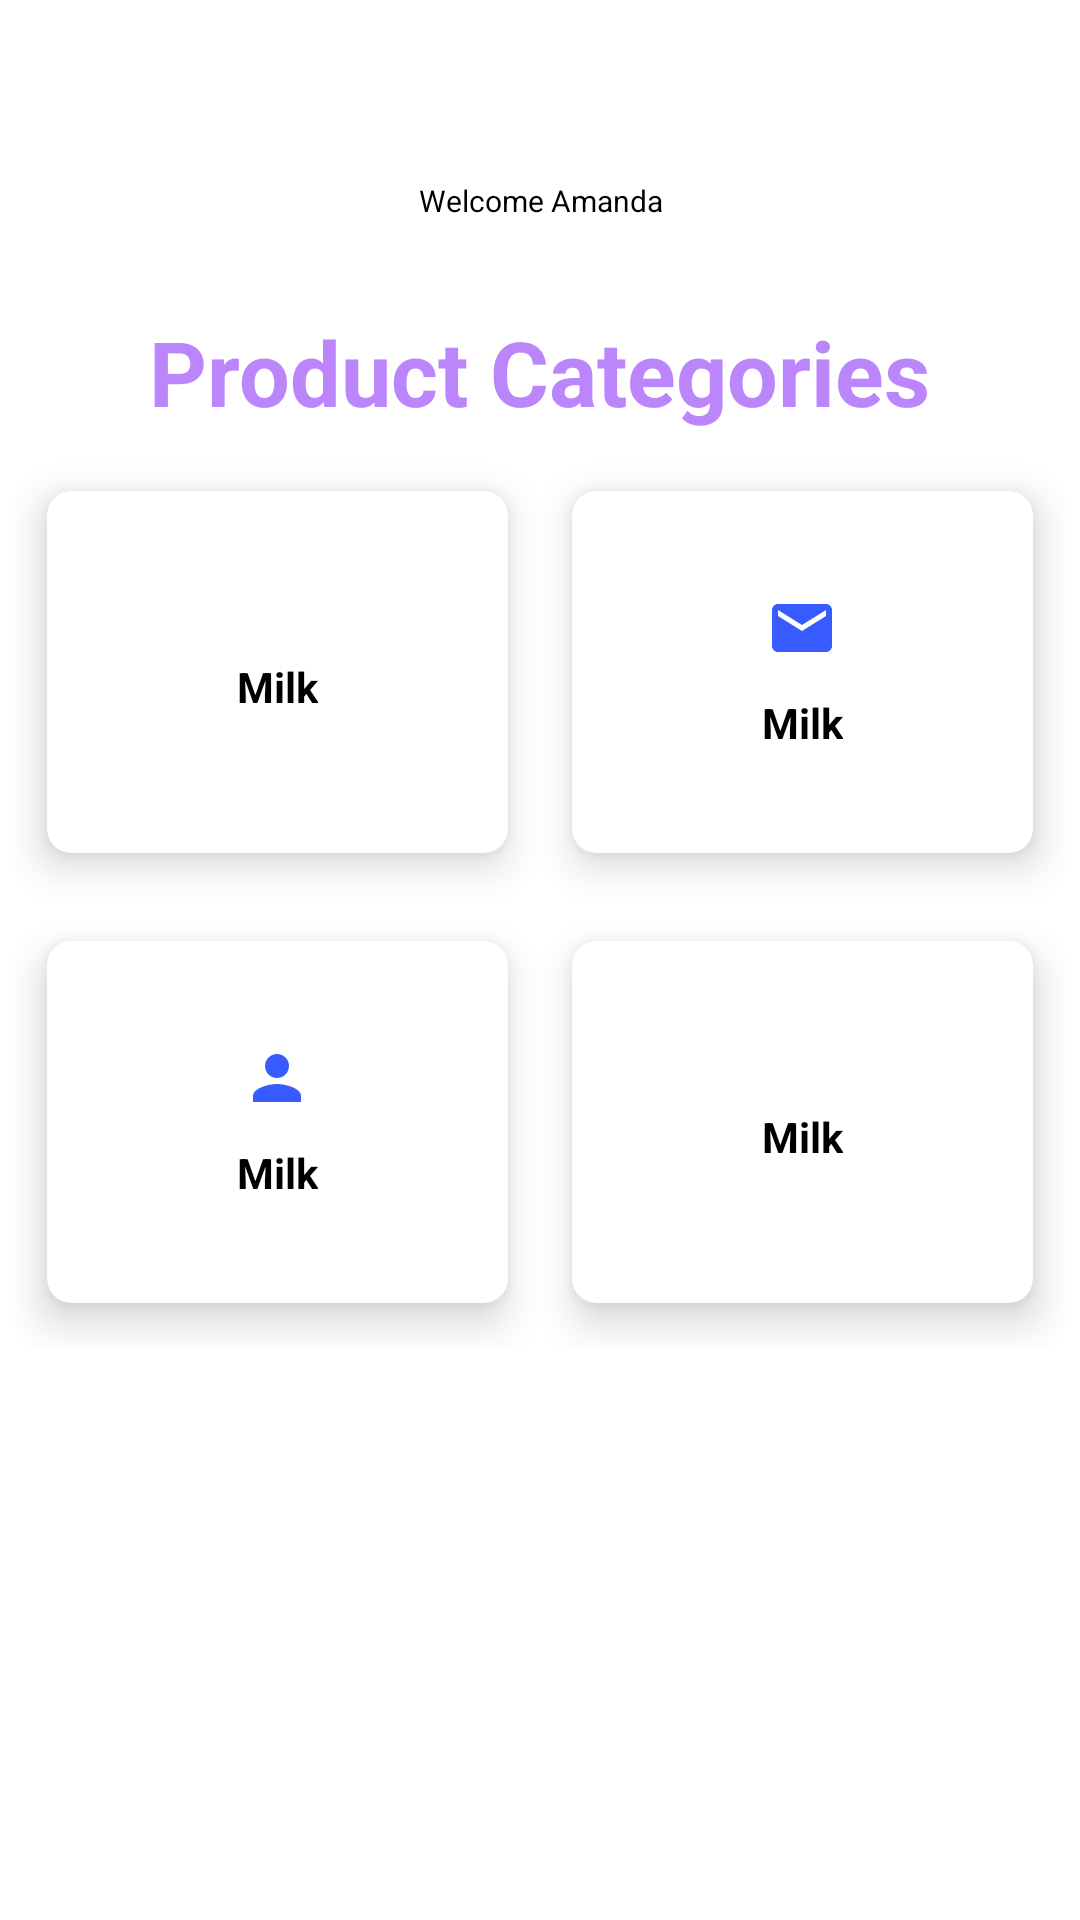

Icons on this 1080×1920 Android screen, each with its box as (x1, y1, x2, y2):
email: (772, 604, 832, 652)
person: (253, 1054, 301, 1102)
